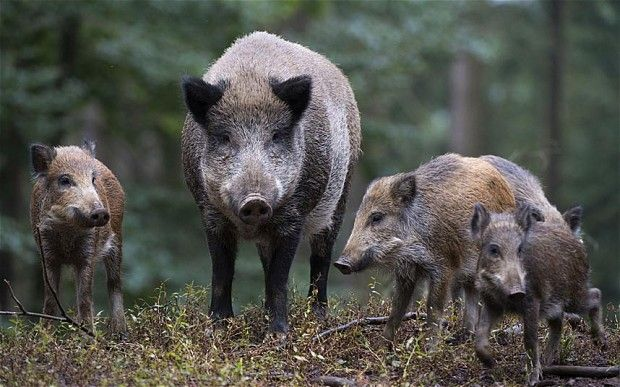boar: (174, 21, 361, 341), (328, 145, 524, 361), (17, 133, 133, 349)
